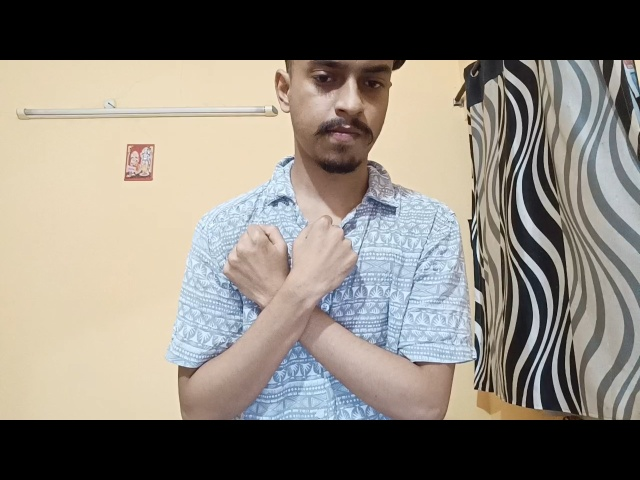Love: (215, 213, 370, 353)
